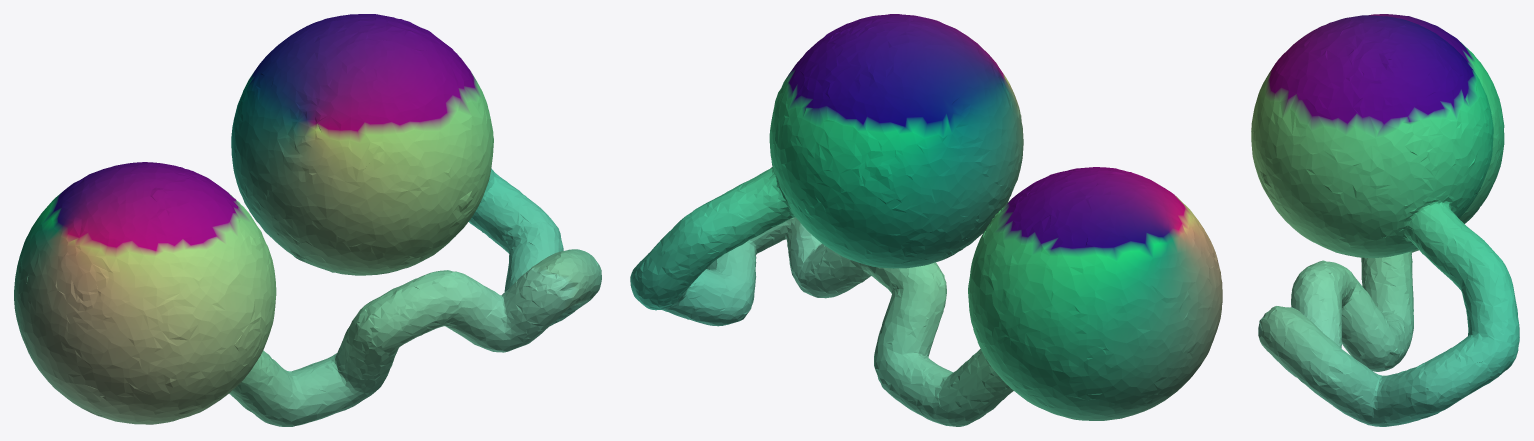
Rendered from twoballs-11.off.obj.
3 views of the same model, side by side, from view 1: azimuth 30°, elevation 25°; view 2: azimuth 150°, elevation 25°; view 3: azimuth 270°, elevation 25° (orthographic). The views are drawn at different scales.
Size of the model in its own units: 1.68 by 1.13 by 0.764.
